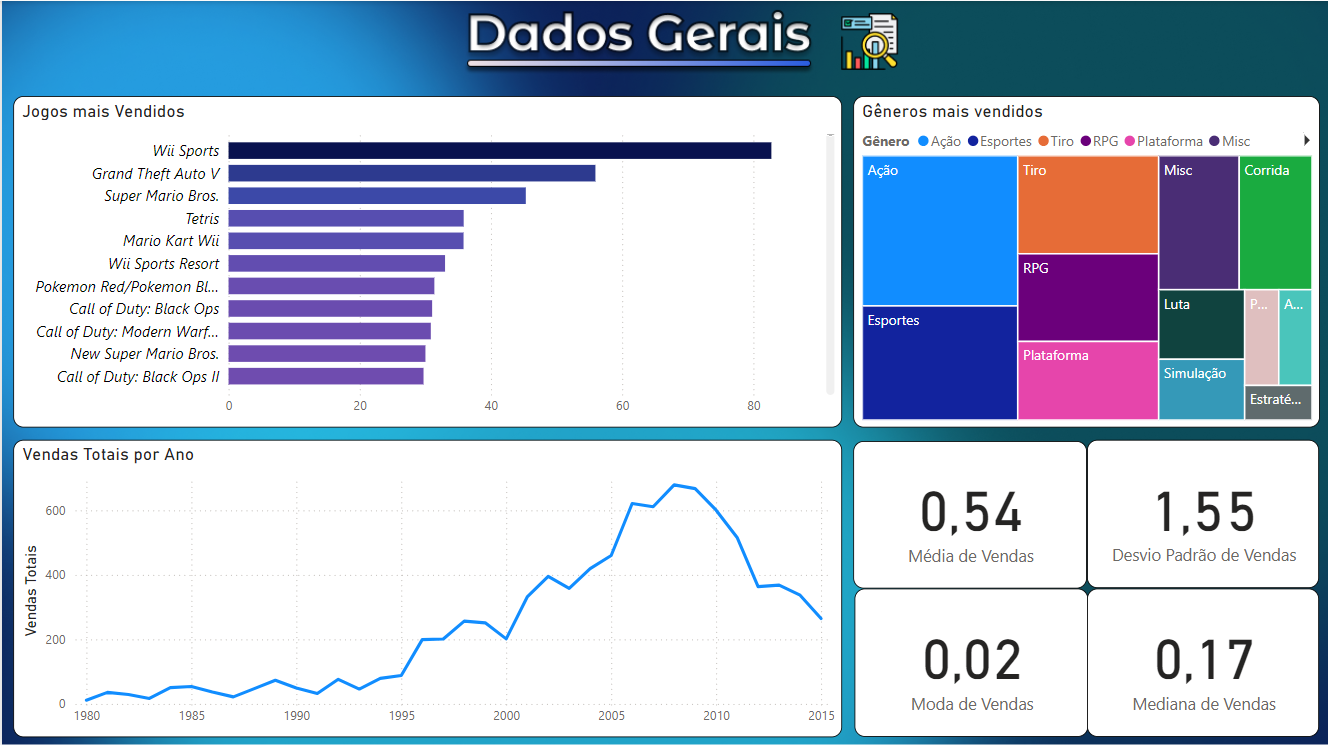

The dashboard page shown, as its layout file describes it:
{"tool":"powerbi","page":{"name":"Dados Gerais","canvas":[1280,720],"ordinal":0},"visuals":[{"type":"clusteredBarChart","title":"Jogos mais Vendidos","fields":{"Category":["games-Final.Titulo"],"Y":["Sum(games-Final.Vendas_Totais)"]},"box":[24.7,91.9,786.3,319.7],"z":0},{"type":"pieChart","title":"Gêneros mais vendidos","fields":{"Category":["games-Final.Genero"],"Y":["Sum(games-Final.Vendas_Totais)"]},"box":[859,91.7,404.2,319.7],"z":1000},{"type":"lineChart","title":"Vendas Totais por Ano","fields":{"Y":["Sum(games-Final.Vendas_Totais)"],"Category":["games-Final.Ano_lancamento.Variation.Hierarquia de datas.Ano"]},"box":[20.5,435.5,790.2,257],"z":2000},{"type":"card","fields":{"Values":["Avg(games-Final.Vendas_Totais)"]},"box":[859,434.3,404.2,115.8],"z":3000},{"type":"card","fields":{"Values":["Sum(games-Final.Vendas_Totais)"]},"box":[859,575.5,404.2,120.6],"z":4000}]}

Visuals, with their boxes in screenshot pixels (x1, y1, x2, y2), scaled from the page's 1280x720 canvas onto the 1328x745 screenshot:
"Jogos mais Vendidos" clusteredBarChart: 26,95,841,426
"Gêneros mais vendidos" pieChart: 891,95,1311,426
"Vendas Totais por Ano" lineChart: 21,451,841,717
card - Avg(games-Final.Vendas_Totais): 891,449,1311,569
card - Sum(games-Final.Vendas_Totais): 891,595,1311,720
